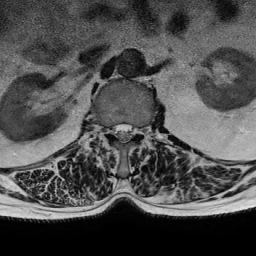CCS_normal: (120, 116, 128, 150)
LFS_normal: (136, 117, 143, 142)
LLS_normal: (128, 116, 136, 146)
RFS_stenosis: (104, 117, 112, 141)
RLS_normal: (112, 117, 120, 144)
